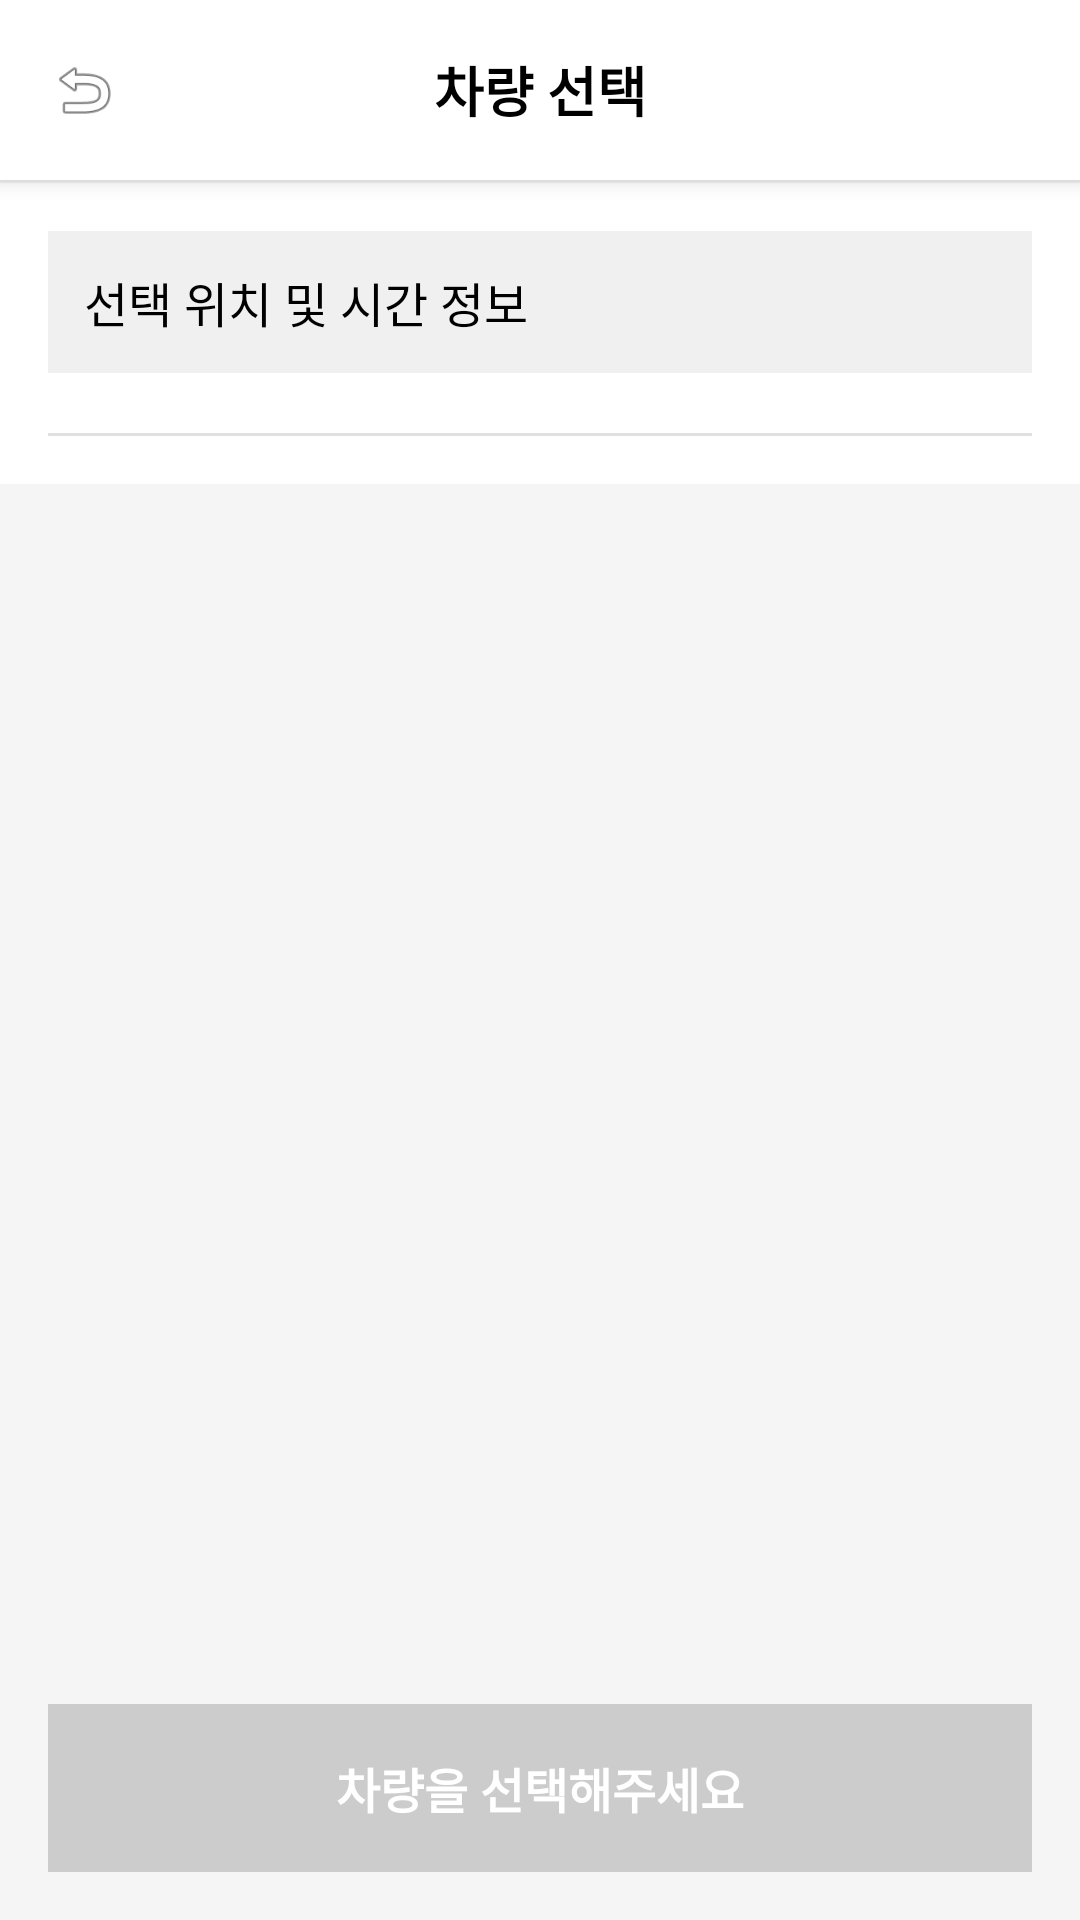

Icons on this 1080 × 1920 Android screen, each with its box as (x1, y1, x2, y2):
뒤로 가기: (59, 67, 111, 114)
